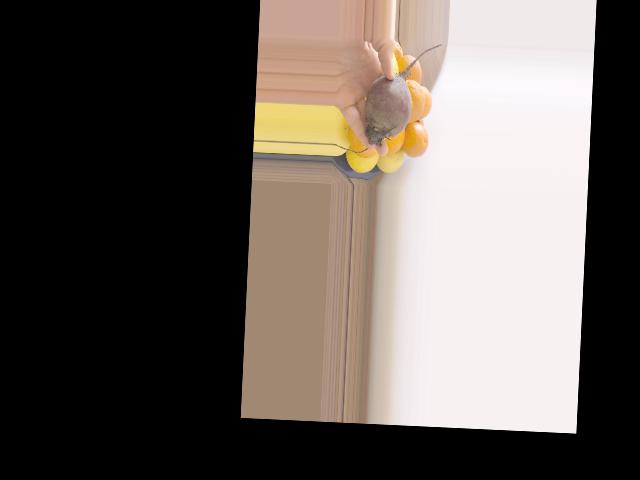beet: (363, 41, 441, 148)
